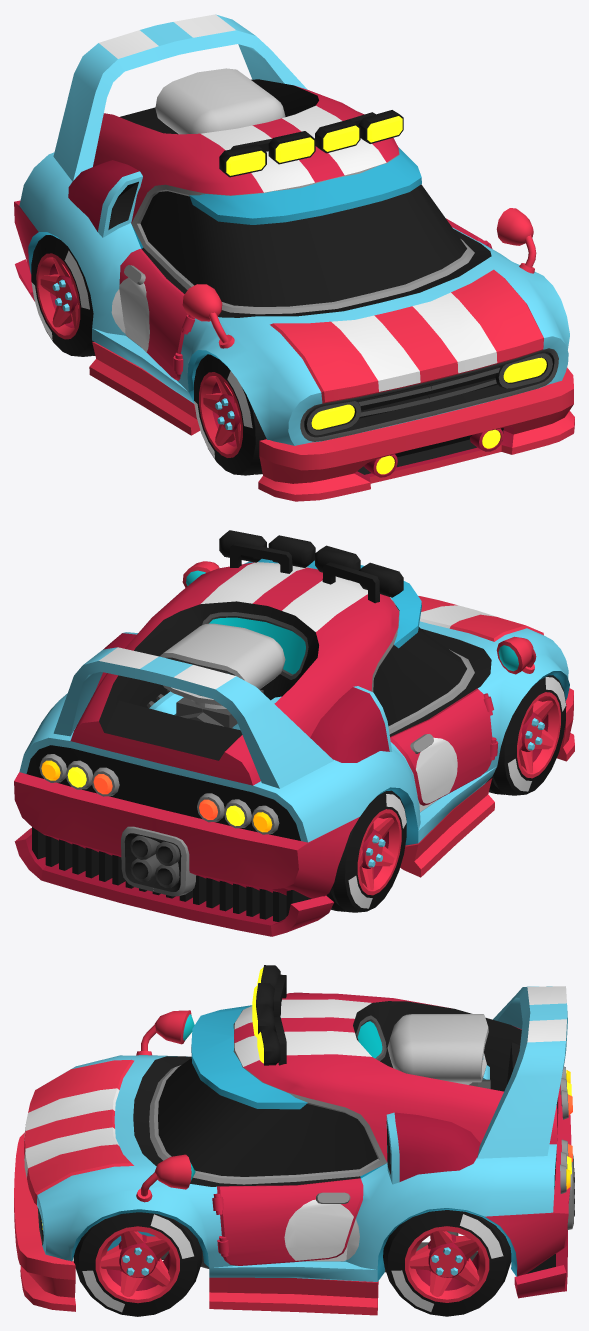
File: SVehicle007.fbx
3 renders of one model, top to bottom at view 1: azimuth 30°, elevation 25°; view 2: azimuth 150°, elevation 25°; view 3: azimuth 270°, elevation 25°, orthographic. The views are drawn at different scales.
Visible parts, largest first — view 1: SVehicle007, SV007_FR, SV007_BR; view 2: SVehicle007, SV007_BR, SV007_FR; view 3: SVehicle007, SV007_BL, SV007_FL.
Boxes of the visible parts, left/top/right/bottom form: SVehicle007: left=14, top=14, right=574, bottom=501; SV007_FR: left=194, top=354, right=266, bottom=475; SV007_BR: left=31, top=235, right=95, bottom=356; SVehicle007: left=14, top=530, right=574, bottom=936; SV007_BR: left=326, top=790, right=406, bottom=912; SV007_FR: left=486, top=675, right=566, bottom=795; SVehicle007: left=14, top=965, right=574, bottom=1315; SV007_BL: left=383, top=1210, right=511, bottom=1316; SV007_FL: left=73, top=1212, right=202, bottom=1316.
Size of the model in its own units: 260 by 190 by 388.
1 material, 1 textured.
